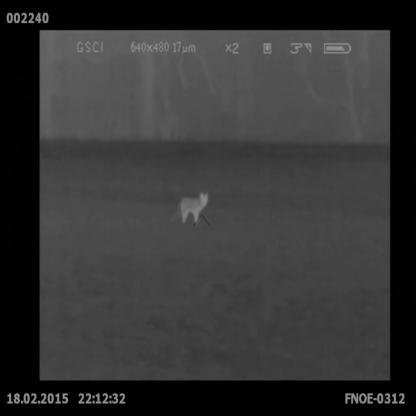rehkitze: (176, 192, 212, 225)
